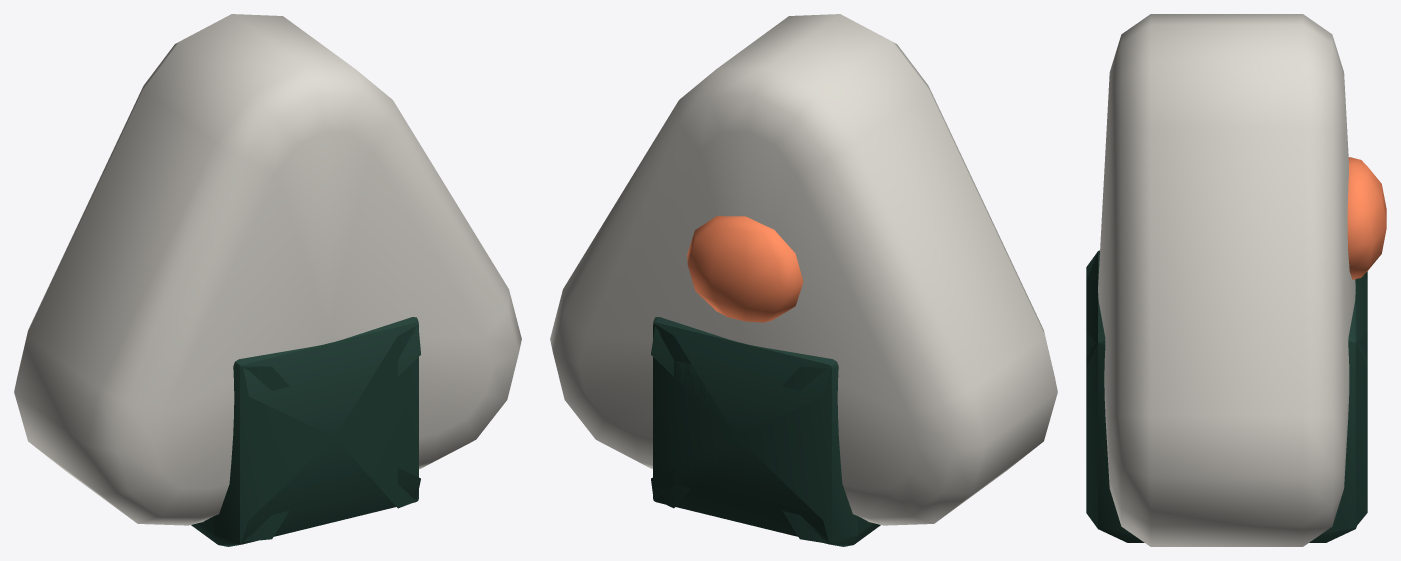
Rendered from Food_onigiri.glb.
The picture shows the model from 3 angles, left to right: view 1: azimuth 30°, elevation 25°; view 2: azimuth 150°, elevation 25°; view 3: azimuth 270°, elevation 25°; orthographic projection. The views are drawn at different scales.
Visible parts, largest first — view 1: Rice_FFFBF2, Nori_1F3D34; view 2: Rice_FFFBF2, Nori_1F3D34, Salmon_FF8A5B; view 3: Rice_FFFBF2, Nori_1F3D34, Salmon_FF8A5B.
Boxes of the visible parts, bbox=[...] form: Rice_FFFBF2: bbox=[14, 14, 521, 525]; Nori_1F3D34: bbox=[191, 317, 420, 546]; Rice_FFFBF2: bbox=[550, 14, 1057, 525]; Nori_1F3D34: bbox=[651, 317, 880, 546]; Salmon_FF8A5B: bbox=[687, 216, 803, 322]; Rice_FFFBF2: bbox=[1098, 14, 1355, 546]; Nori_1F3D34: bbox=[1086, 250, 1367, 542]; Salmon_FF8A5B: bbox=[1347, 157, 1386, 279].
Size of the model in its own units: 1.8 by 1.78 by 1.03.
